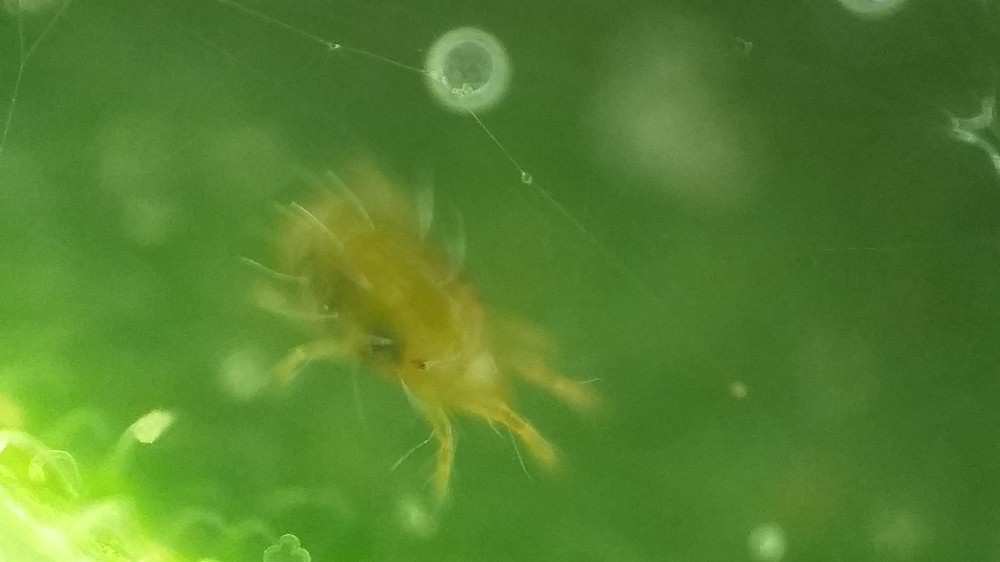Aracnido Rojo: (230, 166, 658, 519)
